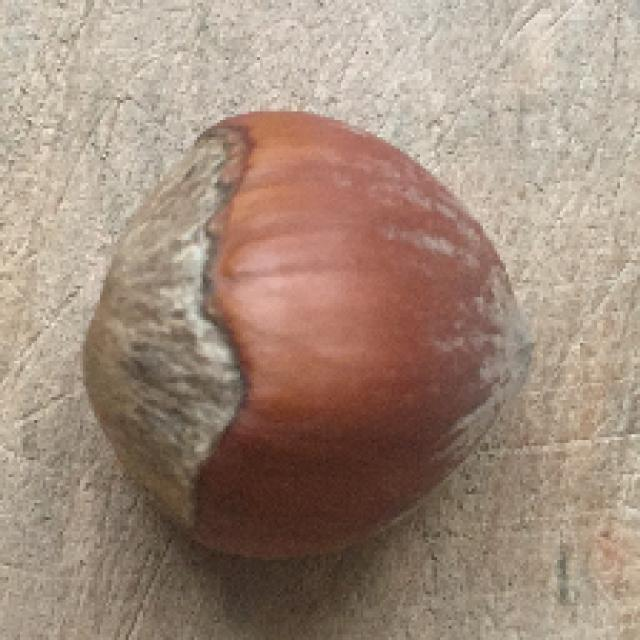qualityHazelnut: (80, 112, 536, 564)
